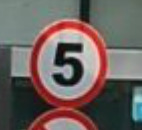speed_limit_5: (30, 19, 108, 108)
